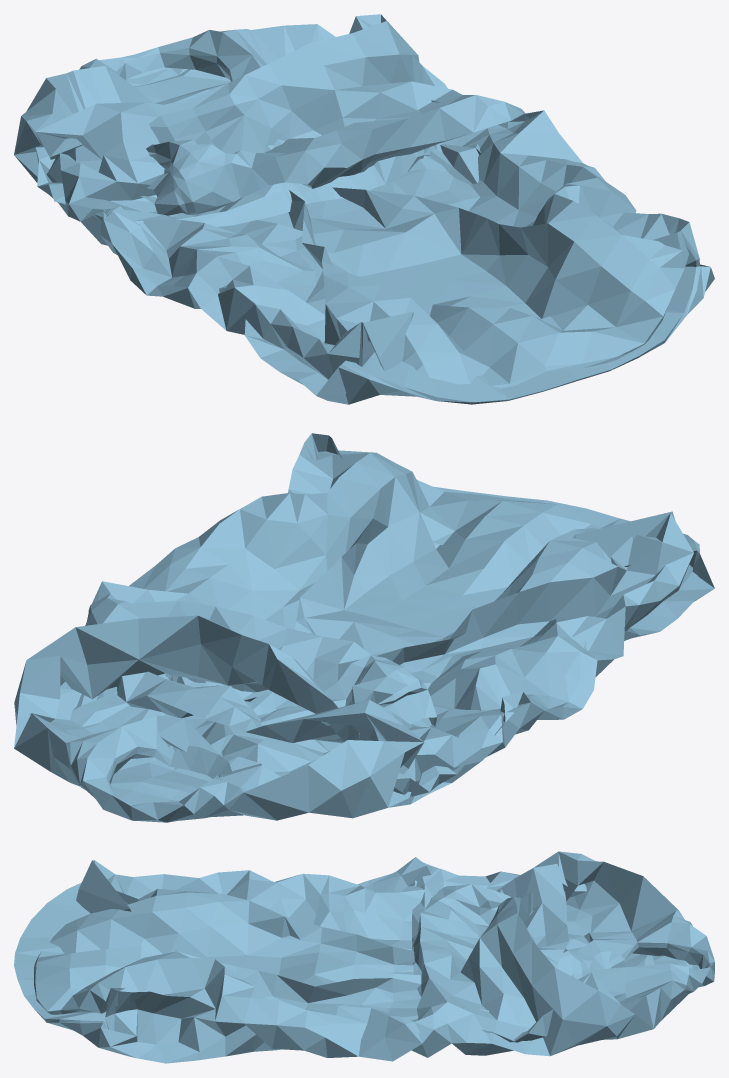
The model's file is frame_20.glb.
3 views of the same model, one above another, from view 1: azimuth 30°, elevation 25°; view 2: azimuth 150°, elevation 25°; view 3: azimuth 270°, elevation 25° (orthographic). The views are drawn at different scales.
Visible parts, largest first — view 1: frame_20.obj; view 2: frame_20.obj; view 3: frame_20.obj.
Part boxes in pixels (box(x1,y1,x2,y2)): frame_20.obj: box(14, 14, 714, 404); frame_20.obj: box(14, 433, 714, 822); frame_20.obj: box(14, 851, 714, 1063).
Bounding box in the file's own units: 0.958 × 0.2786 × 1.6.
